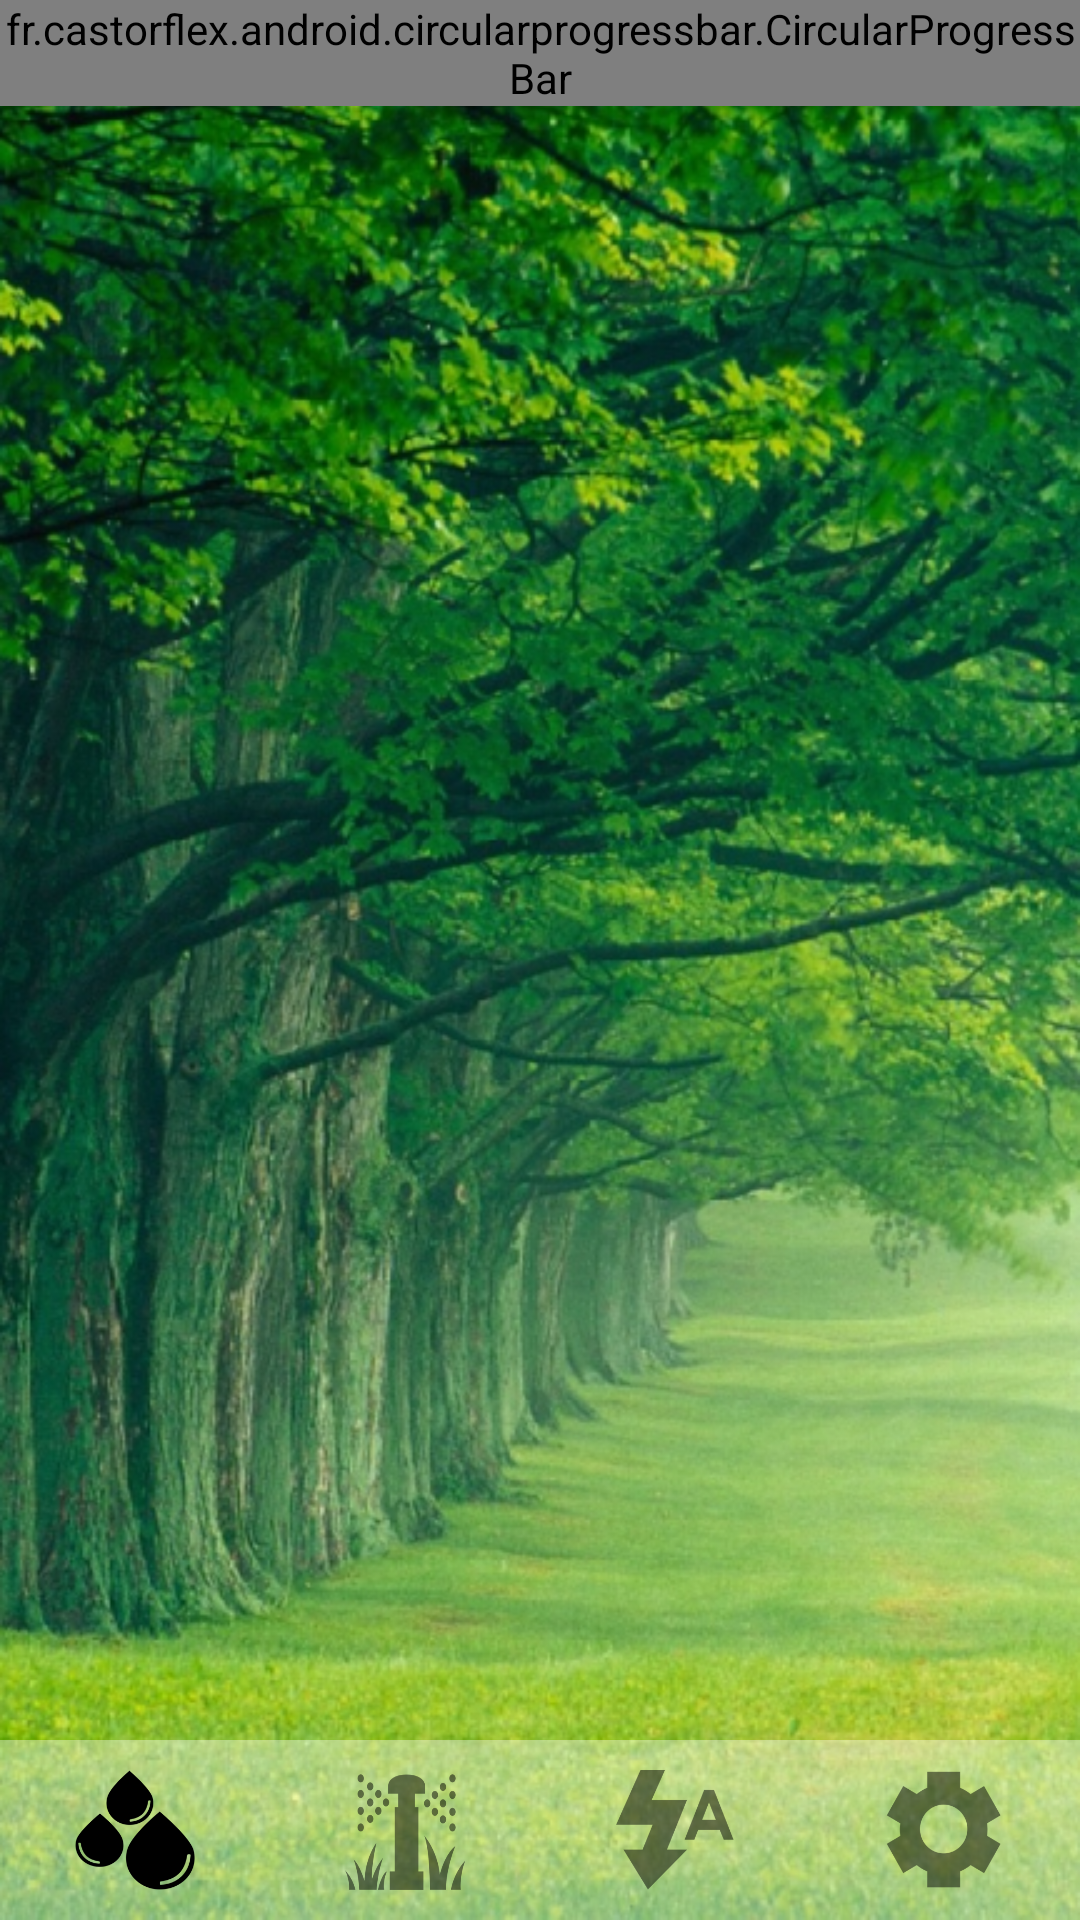

Locate icon controls on the screen. Image size 1080 × 1920, boxes as {"left": x1, "top": y1, "right": x2, "bottom": y2}.
auto: {"left": 615, "top": 1770, "right": 735, "bottom": 1890}
setting: {"left": 885, "top": 1771, "right": 1005, "bottom": 1890}
sprinkler: {"left": 345, "top": 1770, "right": 465, "bottom": 1890}
waterdrop: {"left": 75, "top": 1770, "right": 195, "bottom": 1890}
